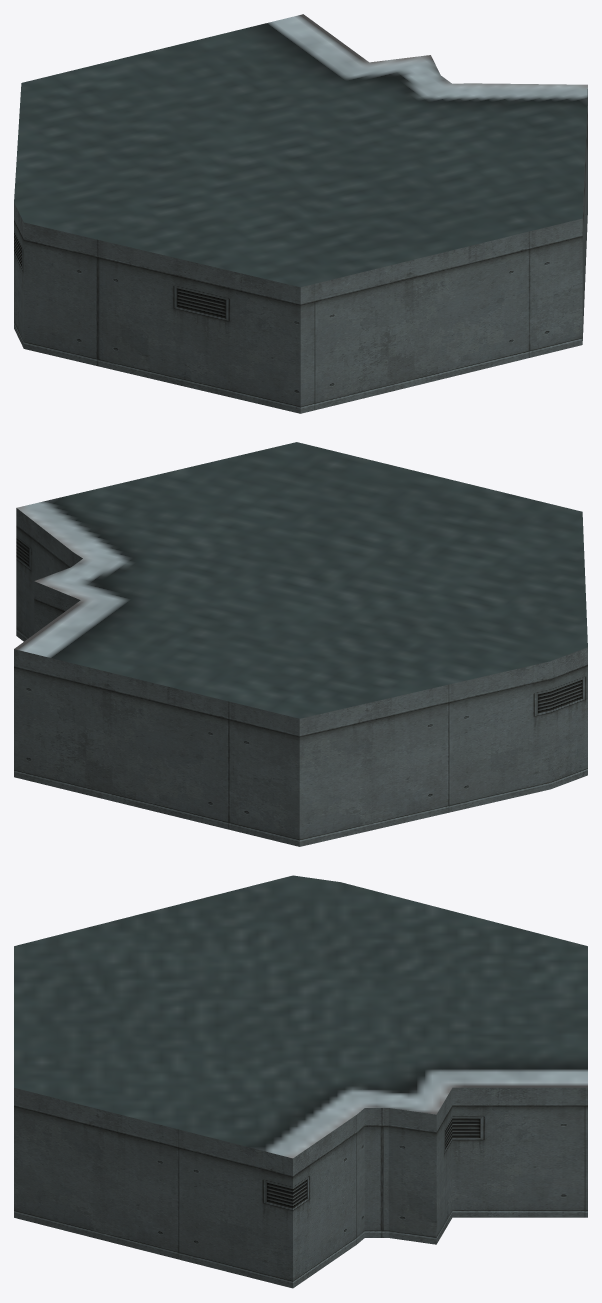
The model's file is medium_roof67.glb.
3 renders of one model, top to bottom at view 1: azimuth 30°, elevation 25°; view 2: azimuth 150°, elevation 25°; view 3: azimuth 270°, elevation 25°, orthographic. The views are drawn at different scales.
Visible parts, largest first — view 1: buildings/saxarba/medium/medium_roof67; view 2: buildings/saxarba/medium/medium_roof67; view 3: buildings/saxarba/medium/medium_roof67.
Part boxes in pixels (bbox=[...]): buildings/saxarba/medium/medium_roof67: bbox=[14, 14, 587, 413]; buildings/saxarba/medium/medium_roof67: bbox=[14, 442, 587, 846]; buildings/saxarba/medium/medium_roof67: bbox=[14, 875, 587, 1288].
Bounding box in the file's own units: 84 × 18 × 72.
